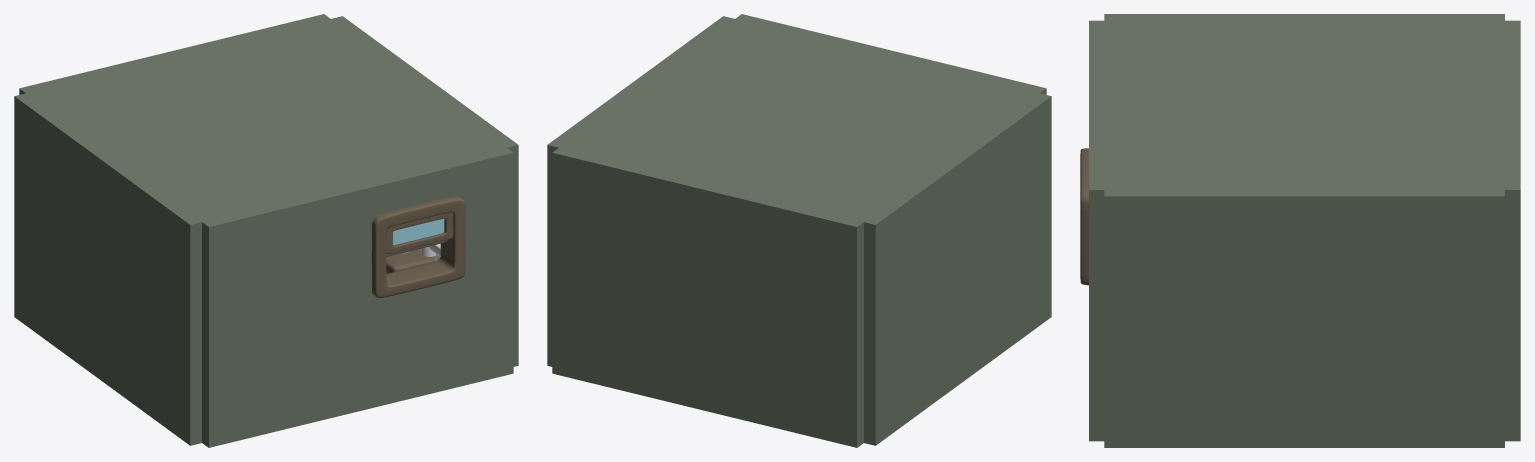
Rendered from grouped01.fbx.
3 renders of one model, left to right at view 1: azimuth 30°, elevation 25°; view 2: azimuth 150°, elevation 25°; view 3: azimuth 270°, elevation 25°, orthographic. The views are drawn at different scales.
Parts seen in each view (by area): view 1: window_wall_01, floor02, wall01, wall03, wall02, sink01; view 2: wall02, floor02, wall01, wall03, window_wall_01; view 3: wall03, floor02, window_wall_01, wall02, wall01.
Part boxes in pixels (x1,y1,x2,y2): window_wall_01: (202, 148, 513, 447); floor02: (26, 19, 506, 221); wall01: (14, 93, 201, 445); wall03: (331, 16, 518, 366); wall02: (19, 14, 330, 94); sink01: (386, 248, 435, 273); wall02: (552, 148, 863, 447); floor02: (559, 19, 1039, 221); wall01: (864, 93, 1051, 445); wall03: (547, 16, 734, 366); window_wall_01: (735, 14, 1046, 94); wall03: (1104, 190, 1504, 447); floor02: (1104, 20, 1504, 189); window_wall_01: (1080, 20, 1104, 441); wall02: (1505, 20, 1520, 441); wall01: (1104, 14, 1504, 20).
Size of the model in its own units: 700 by 453 by 714.
